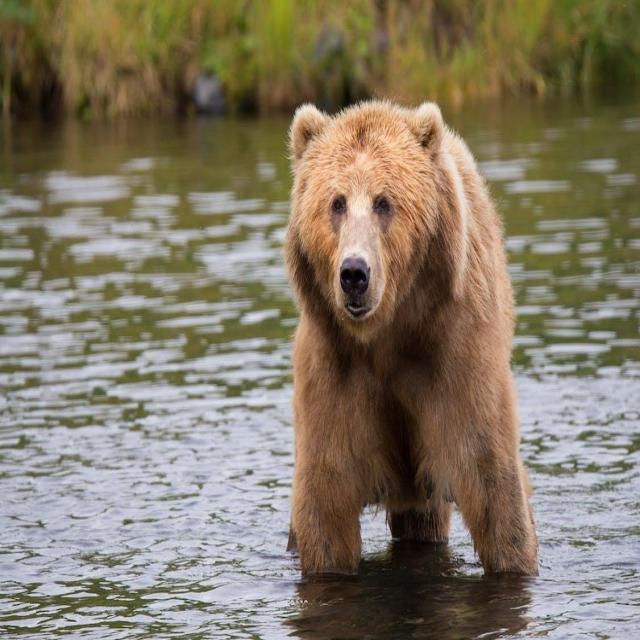Bear: (282, 101, 540, 580)
